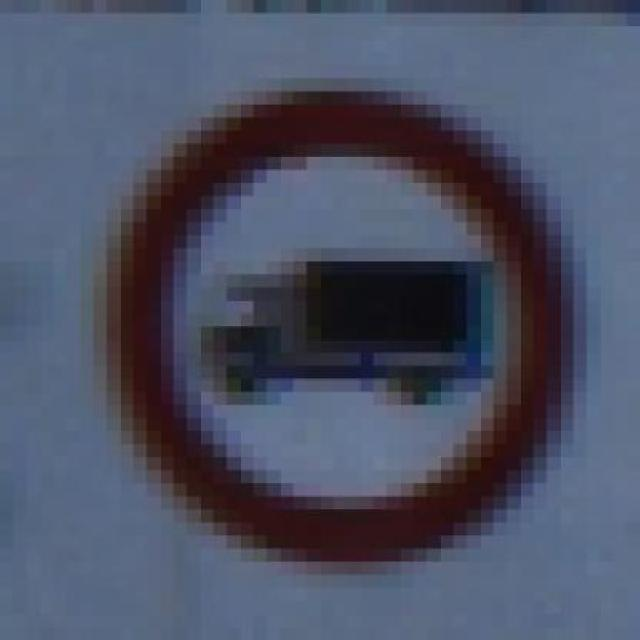Truck traffic is prohibited: (40, 52, 614, 562)
